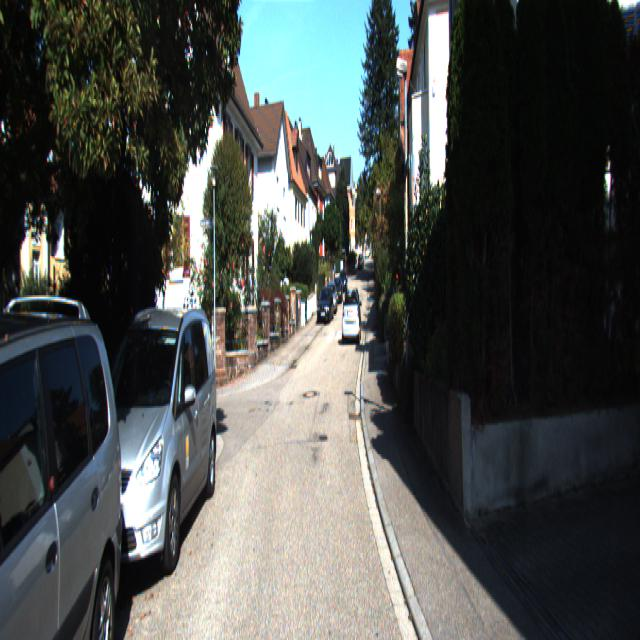Car: (0, 253, 134, 638), (67, 312, 222, 614), (341, 284, 361, 344), (316, 286, 334, 323)
